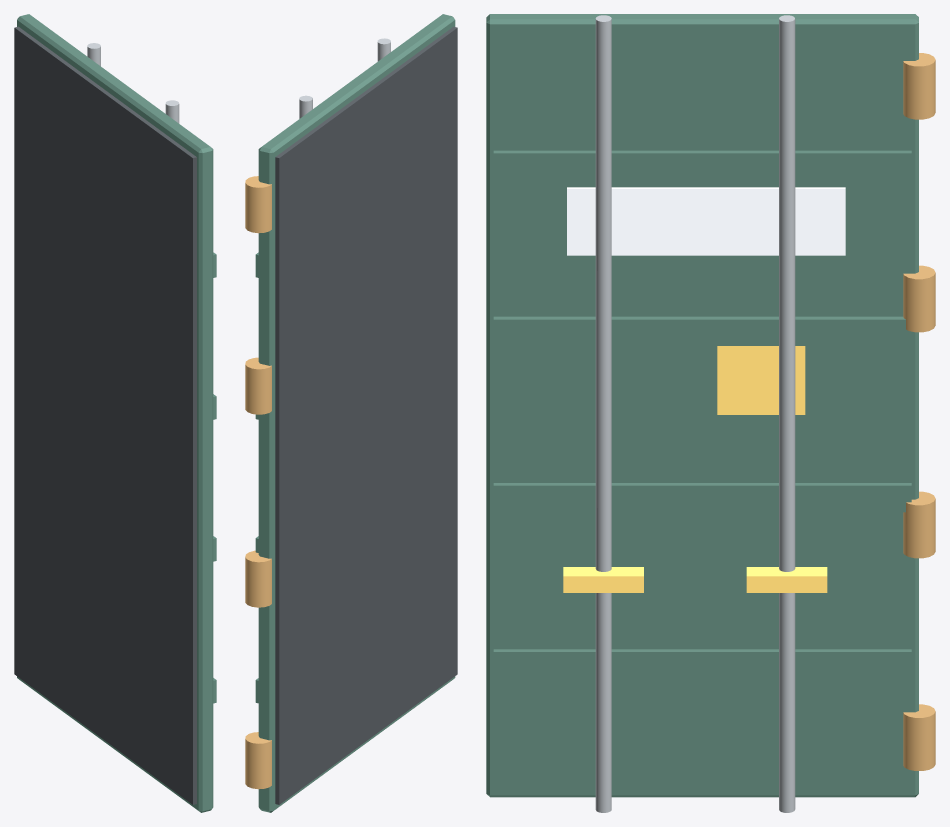
File: bulk-container-door-r-v5-high.glb
3 views of the same model, side by side, from view 1: azimuth 30°, elevation 25°; view 2: azimuth 150°, elevation 25°; view 3: azimuth 270°, elevation 25° (orthographic). The views are drawn at different scales.
Parts seen in each view (by area): view 1: bulk-container-door-r-v5-high.glb-v5_cr20_inner_dark, bulk-container-door-r-v5-high.glb-v5_cr20_green, bulk-container-door-r-v5-high.glb-v5_bulk_silver; view 2: bulk-container-door-r-v5-high.glb-v5_cr20_inner_dark, bulk-container-door-r-v5-high.glb-v5_cr20_green, bulk-container-door-r-v5-high.glb-v5_cr20_bottom_rust, bulk-container-door-r-v5-high.glb-v5_bulk_silver; view 3: bulk-container-door-r-v5-high.glb-v5_cr20_green, bulk-container-door-r-v5-high.glb-v5_bulk_silver, bulk-container-door-r-v5-high.glb-v5_cr20_white_mark, bulk-container-door-r-v5-high.glb-v5_tilter_yellow, bulk-container-door-r-v5-high.glb-v5_cr20_bottom_rust.
Part boxes in pixels (bbox=[...]): bulk-container-door-r-v5-high.glb-v5_cr20_inner_dark: bbox=[14, 26, 196, 804]; bulk-container-door-r-v5-high.glb-v5_cr20_green: bbox=[17, 14, 216, 812]; bulk-container-door-r-v5-high.glb-v5_bulk_silver: bbox=[87, 43, 179, 123]; bulk-container-door-r-v5-high.glb-v5_cr20_inner_dark: bbox=[275, 26, 457, 804]; bulk-container-door-r-v5-high.glb-v5_cr20_green: bbox=[255, 14, 455, 812]; bulk-container-door-r-v5-high.glb-v5_cr20_bottom_rust: bbox=[245, 176, 271, 789]; bulk-container-door-r-v5-high.glb-v5_bulk_silver: bbox=[299, 38, 390, 118]; bulk-container-door-r-v5-high.glb-v5_cr20_green: bbox=[486, 14, 918, 797]; bulk-container-door-r-v5-high.glb-v5_bulk_silver: bbox=[595, 15, 795, 812]; bulk-container-door-r-v5-high.glb-v5_cr20_white_mark: bbox=[567, 187, 845, 255]; bulk-container-door-r-v5-high.glb-v5_tilter_yellow: bbox=[563, 346, 827, 592]; bulk-container-door-r-v5-high.glb-v5_cr20_bottom_rust: bbox=[903, 53, 935, 770].
Bounding box in the file's own units: 0.1475 × 2.38 × 1.23.
